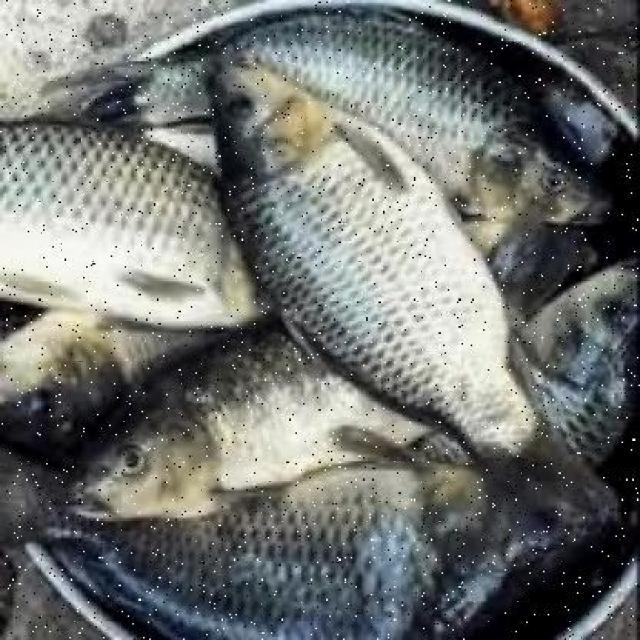ikan-pacu: (222, 51, 516, 432), (41, 464, 598, 638), (157, 16, 603, 216), (80, 332, 385, 492)
